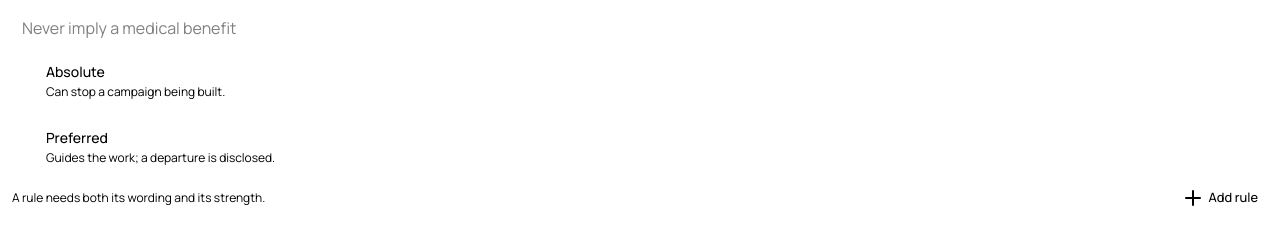
Scenario: BrandRulesField › refuses to add a rule whose strength was never chosen
Type "Never show alcohol" into the field named "Rule" at (640, 28), box top-left (12, 12), bottom-right (1268, 44)
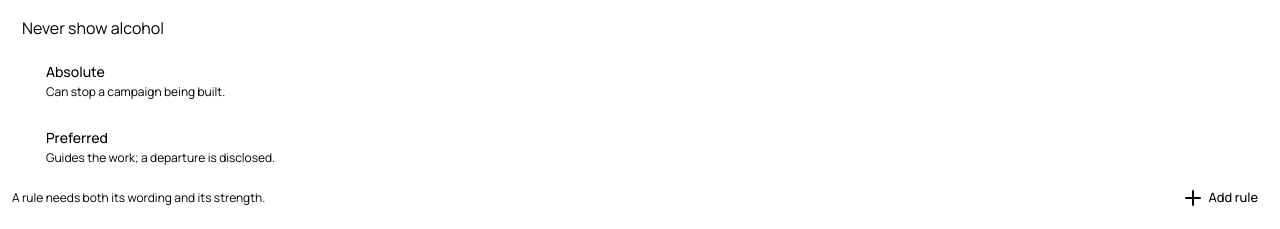
Click the button "Add rule" at (1219, 198), box top-left (1170, 184), bottom-right (1268, 212)
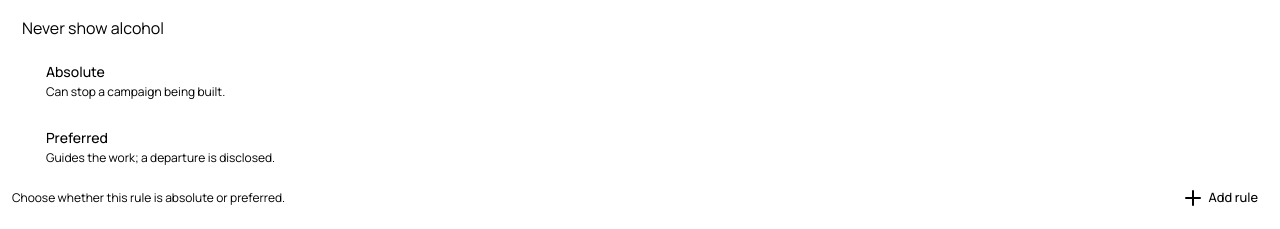
Result: the message shows "absolute or preferred" at top-left (12, 189), bottom-right (285, 206)
